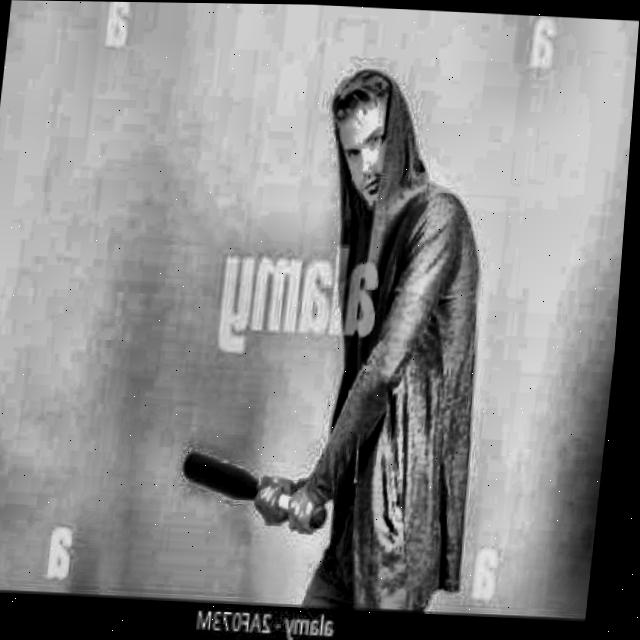tongkat pemukul: (160, 445, 350, 547)
